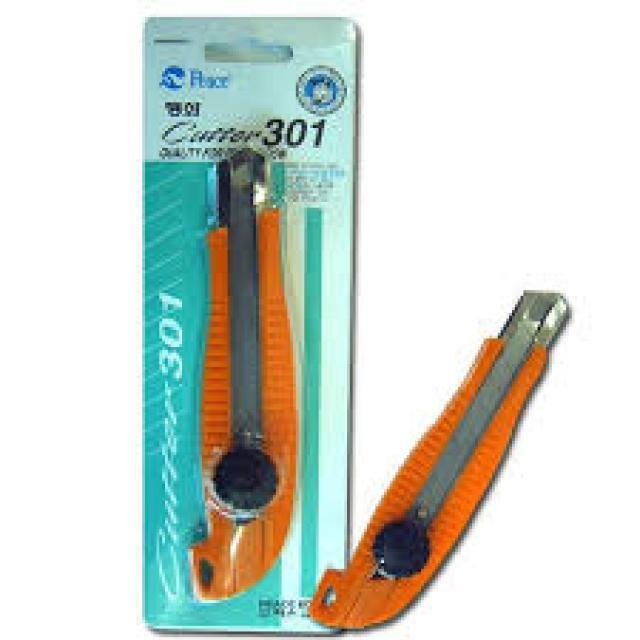cutter: (176, 138, 300, 606)
